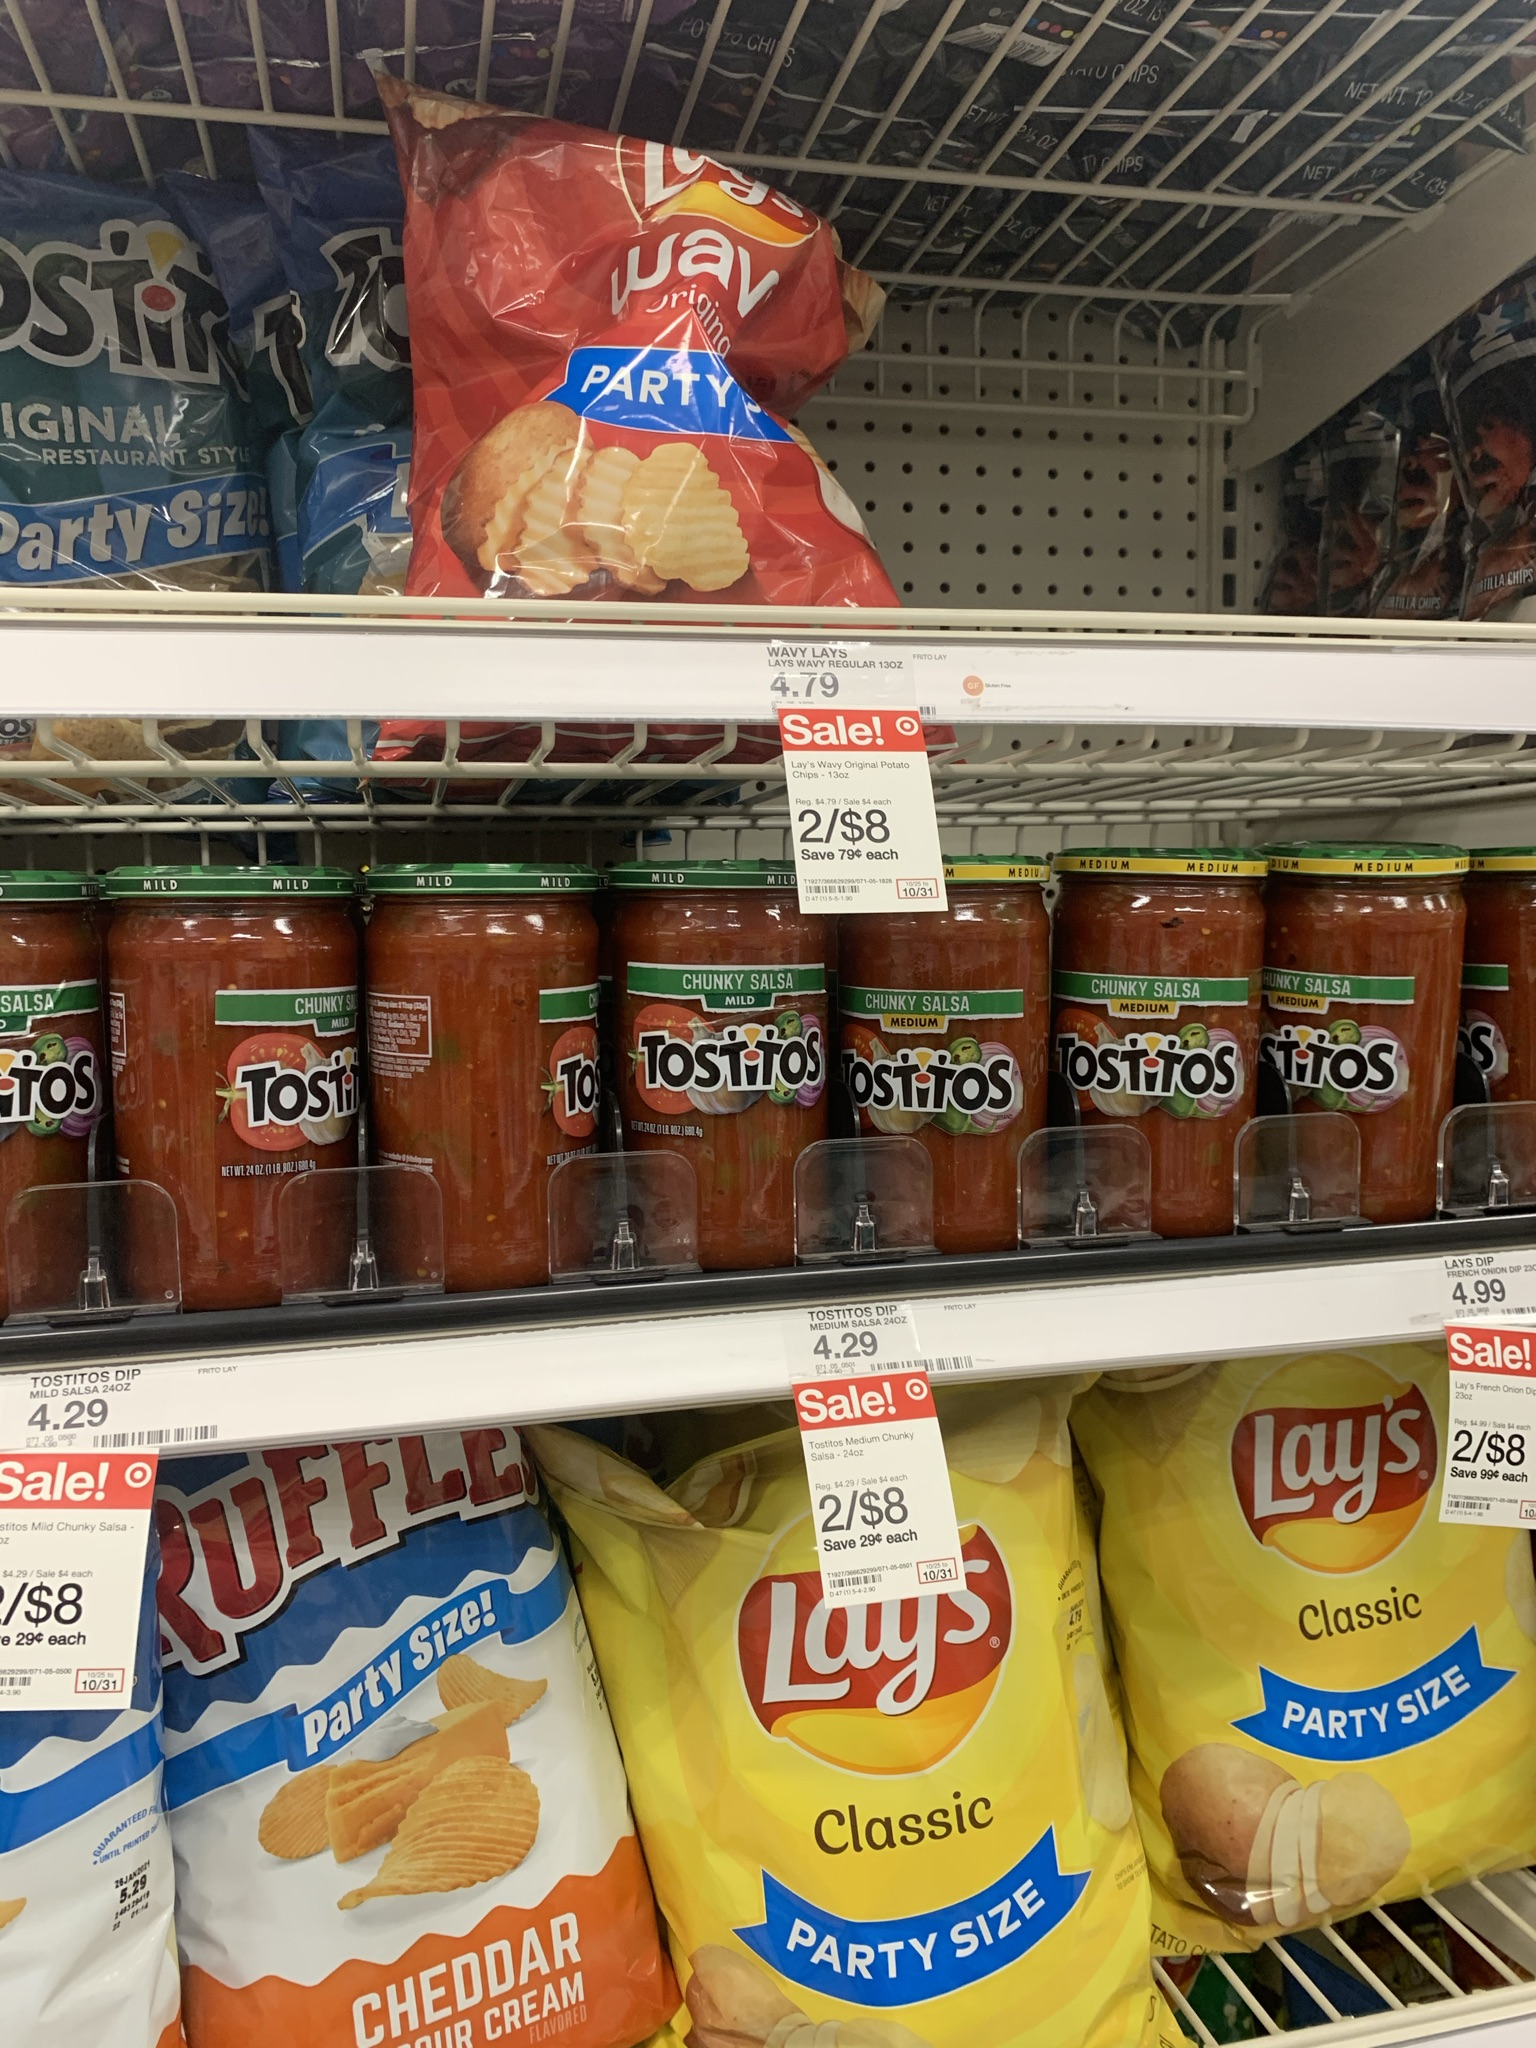lays: (624, 1509, 1233, 1988), (407, 106, 865, 569), (1134, 1397, 1536, 1900)
ruffles chips: (182, 1479, 639, 2048)
